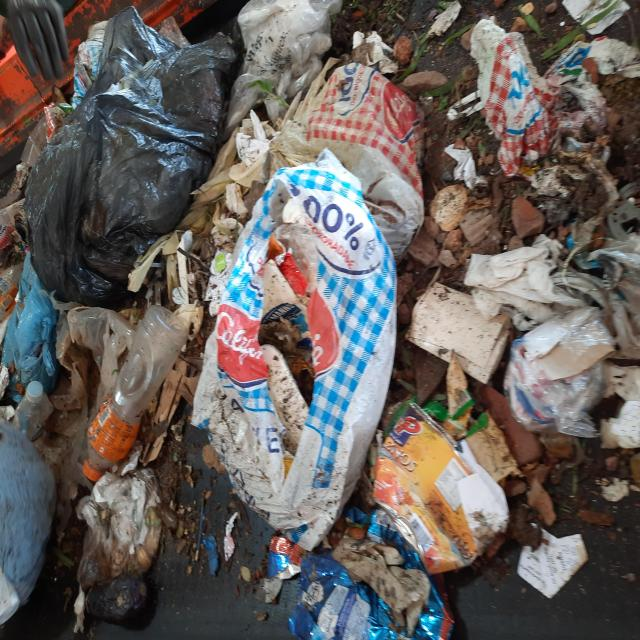bottle: (78, 301, 192, 474), (12, 379, 54, 434), (1, 260, 28, 323)
